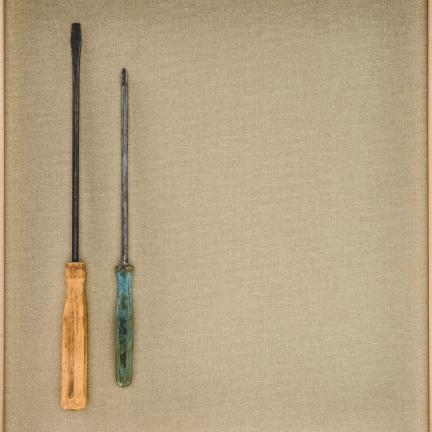karat: (62, 24, 87, 409)
